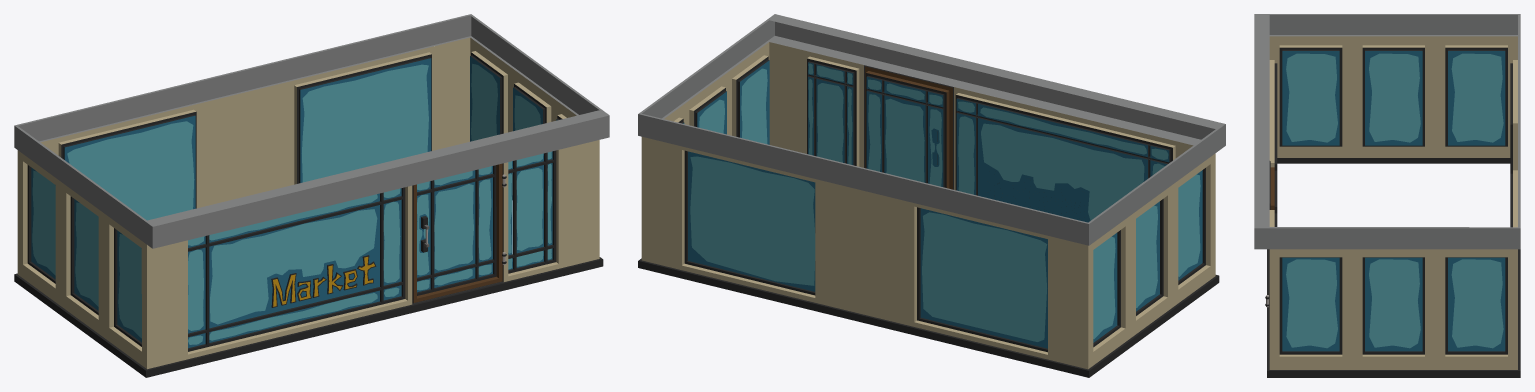
The model's file is Building_D_01_01.FBX.
3 renders of one model, left to right at view 1: azimuth 30°, elevation 25°; view 2: azimuth 150°, elevation 25°; view 3: azimuth 270°, elevation 25°, orthographic. The views are drawn at different scales.
Parts seen in each view (by area): view 1: Building_D_01_01; view 2: Building_D_01_01; view 3: Building_D_01_01.
Part boxes in pixels (x1,y1,x2,y2): Building_D_01_01: [14, 14, 609, 377]; Building_D_01_01: [638, 14, 1225, 377]; Building_D_01_01: [1254, 14, 1520, 377].
Size of the model in its own units: 10 by 3.26 by 5.25.
